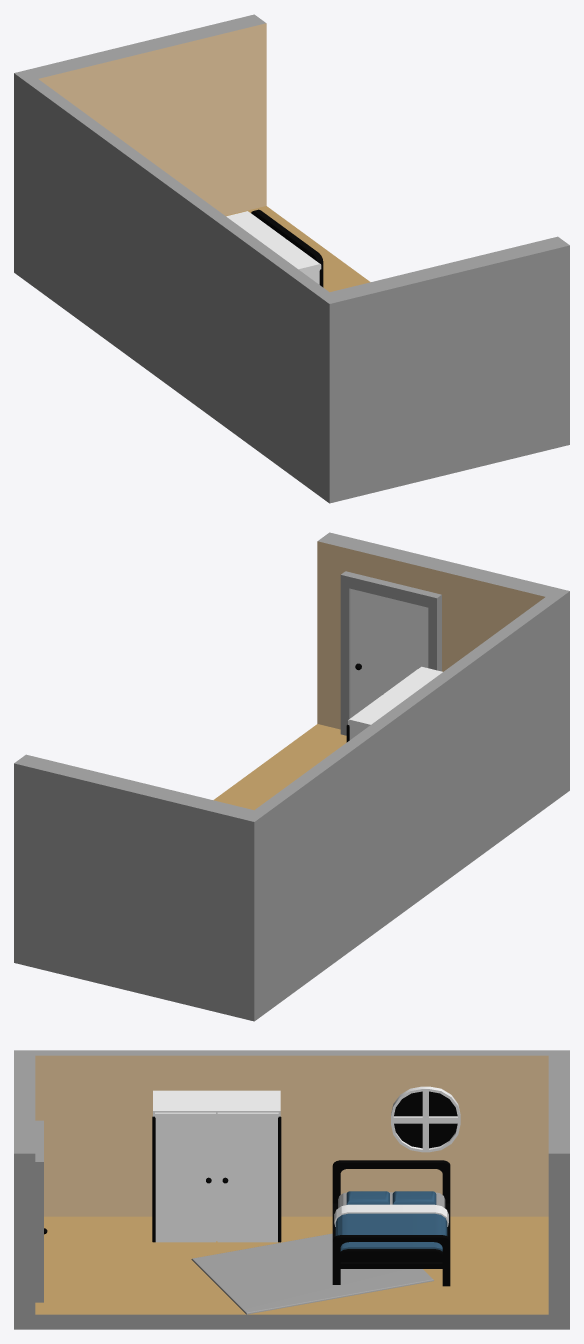
Rendered from room.fbx.
3 renders of one model, top to bottom at view 1: azimuth 30°, elevation 25°; view 2: azimuth 150°, elevation 25°; view 3: azimuth 270°, elevation 25°, orthographic. The views are drawn at different scales.
Parts seen in each view (by area): view 1: pCube10, polySurface3, polySurface6; view 2: pCube10, pCube11, pCube13, polySurface3; view 3: pCube10, polySurface3, pCube12, polySurface8, polySurface6, pCube8, pCube13, polySurface5, polySurface7, pCylinder2, pCylinder1.
Part boxes in pixels (x1,y1,x2,y2): pCube10: (14,14,569,503); polySurface3: (226,211,321,284); polySurface6: (251,209,323,287); pCube10: (14,532,569,1021); pCube11: (351,589,428,717); pCube13: (340,571,441,735); polySurface3: (348,666,442,739); pCube10: (14,1050,569,1329); polySurface3: (153,1090,280,1242); pCube12: (191,1233,433,1314); polySurface8: (334,1192,448,1261); polySurface6: (332,1160,450,1286); pCube8: (391,1086,460,1152); pCube13: (35,1120,43,1302); polySurface5: (392,1191,436,1204); polySurface7: (346,1191,389,1204); pCylinder2: (152,1116,155,1242); pCylinder1: (278,1116,281,1242).
Size of the model in its own units: 14.95 by 11.85 by 33.98.
